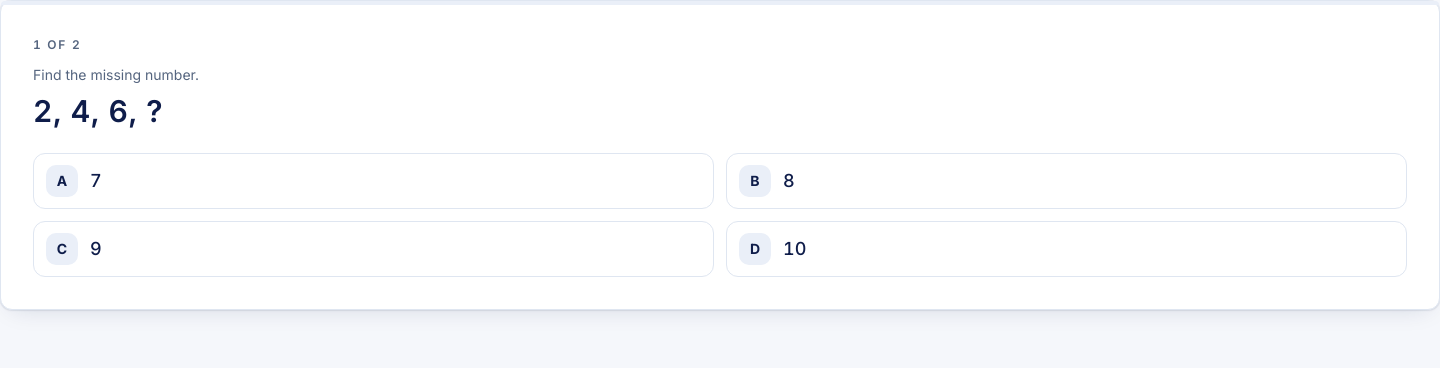
Scenario: chapter practice › a refused answer explains itself and leaves the question open
Click the button named "Option B". click: (755,181)
box: [726, 153, 1407, 209]
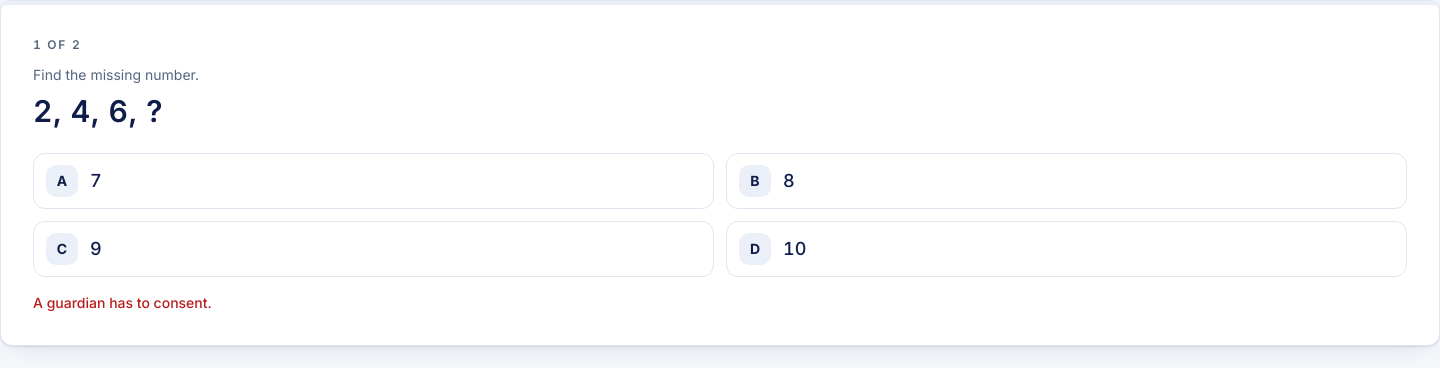
Now the message shows "guardian", box [33, 294, 212, 311]
